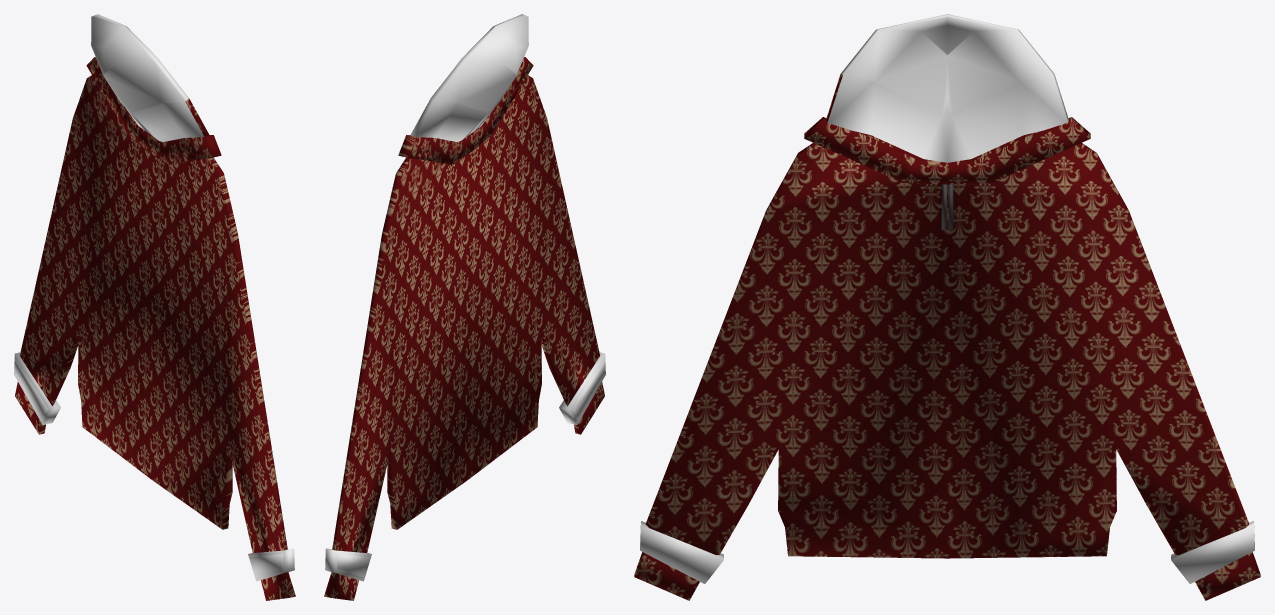
Rendered from hoodie5.fbx.
3 renders of one model, left to right at view 1: azimuth 30°, elevation 25°; view 2: azimuth 150°, elevation 25°; view 3: azimuth 270°, elevation 25°, orthographic. The views are drawn at different scales.
Parts seen in each view (by area): view 1: hoodie5; view 2: hoodie5; view 3: hoodie5.
Boxes of the visible parts, <box> form: hoodie5: <box>14,14,295,600</box>; hoodie5: <box>324,14,605,600</box>; hoodie5: <box>634,14,1260,600</box>.
Bounding box in the file's own units: 0.3995 × 3.39 × 3.39.
